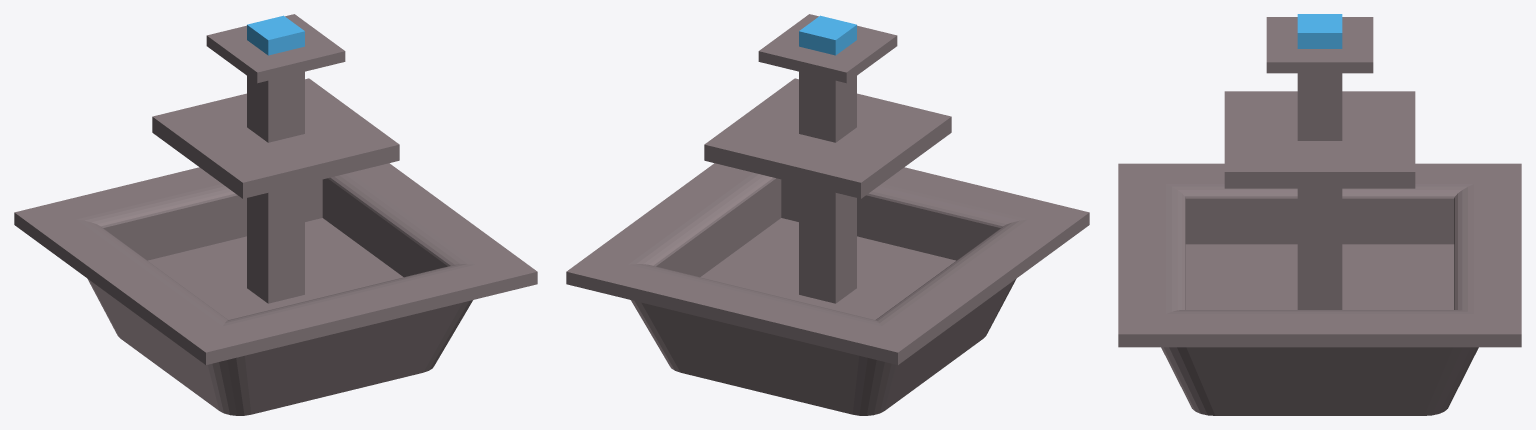
The model's file is vol.fbx.
The picture shows the model from 3 angles, left to right: view 1: azimuth 30°, elevation 25°; view 2: azimuth 150°, elevation 25°; view 3: azimuth 270°, elevation 25°; orthographic projection. The views are drawn at different scales.
Visible parts, largest first — view 1: Cube; view 2: Cube; view 3: Cube.
Boxes of the visible parts, left/top/right/bottom form: Cube: left=14, top=14, right=537, bottom=415; Cube: left=566, top=14, right=1089, bottom=415; Cube: left=1118, top=14, right=1521, bottom=415.
Size of the model in its own units: 3390 by 3133 by 3390.
